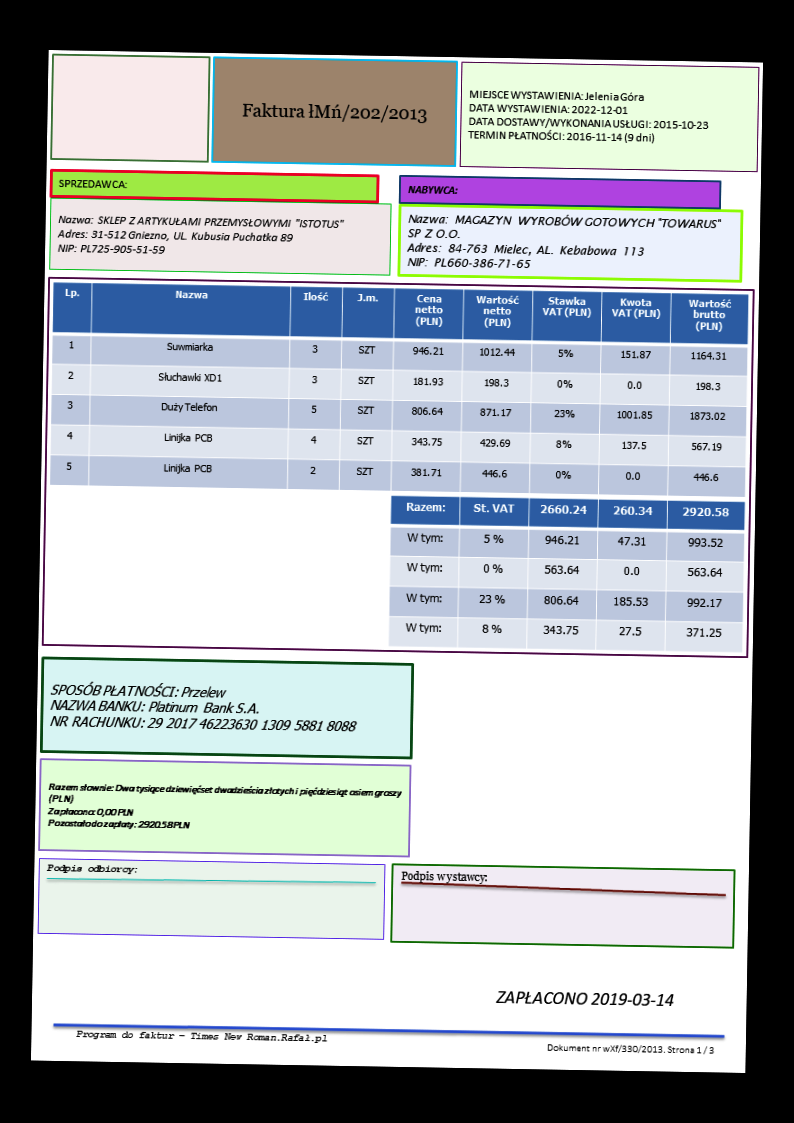Table: (48, 280, 748, 500), (387, 493, 746, 653)
TextBox: (405, 211, 723, 273), (46, 781, 404, 836), (48, 678, 359, 734), (466, 86, 711, 147), (55, 212, 346, 260), (239, 99, 428, 127), (75, 1028, 328, 1046), (494, 987, 675, 1009), (544, 1041, 716, 1056), (400, 868, 489, 887), (44, 862, 138, 877), (57, 176, 127, 191), (406, 182, 459, 198)
